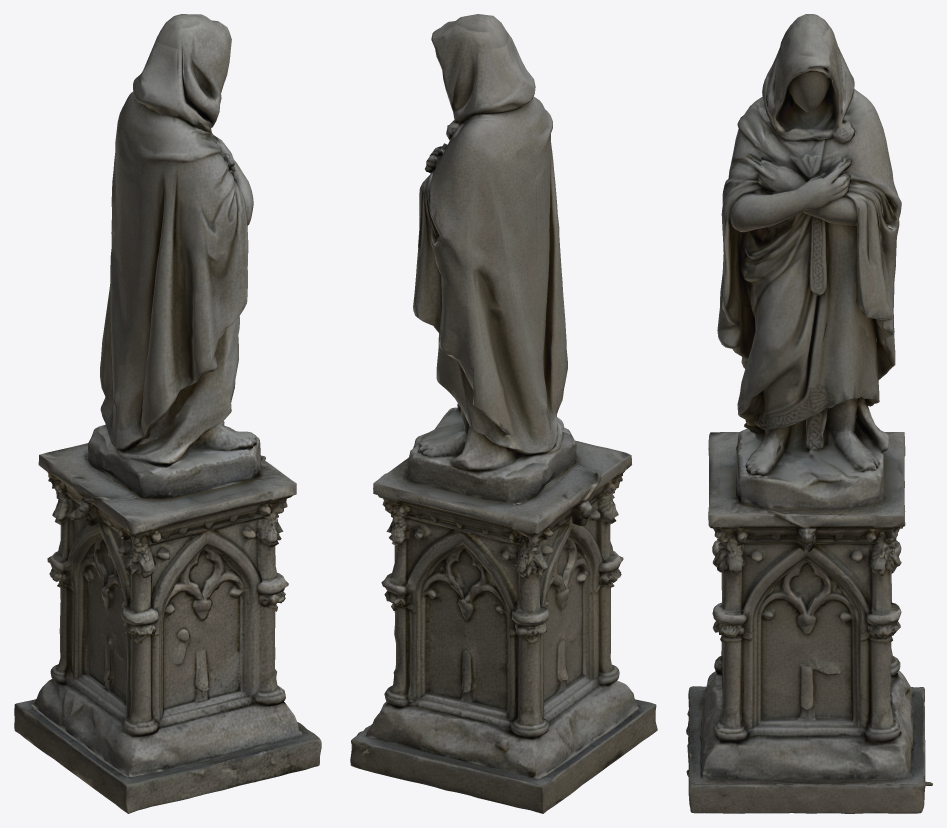
The model's file is a-single-weathered-gothic-cathedral-fune-cmu1gsre.glb.
3 renders of one model, left to right at view 1: azimuth 30°, elevation 25°; view 2: azimuth 150°, elevation 25°; view 3: azimuth 270°, elevation 25°, orthographic. The views are drawn at different scales.
Visible parts, largest first — view 1: tripo_node_601d73ef-c727-4e47-b868-5556133cb847; view 2: tripo_node_601d73ef-c727-4e47-b868-5556133cb847; view 3: tripo_node_601d73ef-c727-4e47-b868-5556133cb847.
Part boxes in pixels (box(x1,y1,x2,y2)): tripo_node_601d73ef-c727-4e47-b868-5556133cb847: box(14, 14, 321, 813); tripo_node_601d73ef-c727-4e47-b868-5556133cb847: box(350, 14, 657, 813); tripo_node_601d73ef-c727-4e47-b868-5556133cb847: box(686, 14, 932, 813).
Bounding box in the file's own units: 0.2819 × 1 × 0.2953.
1 material, 1 textured.
